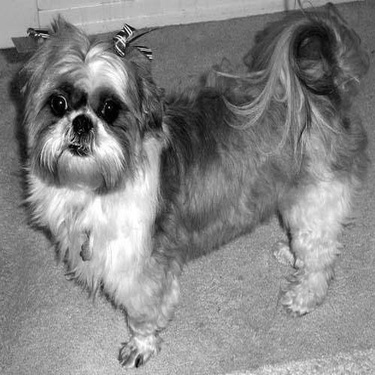dog: (18, 6, 370, 370)
